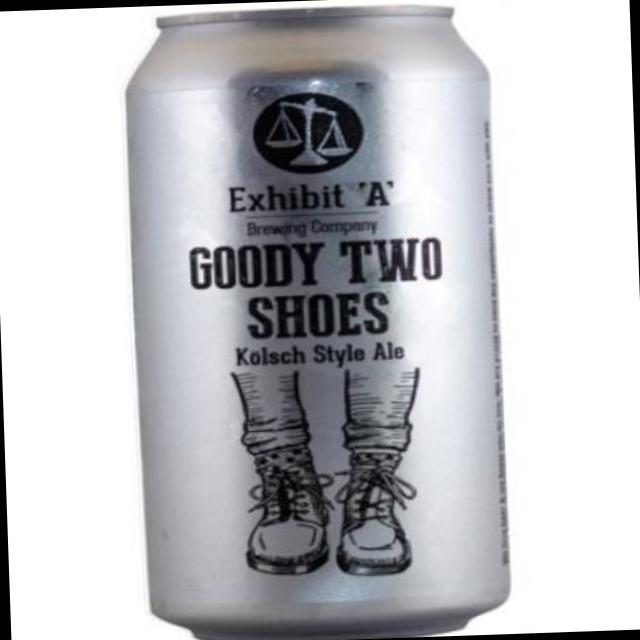metal: (125, 5, 506, 638)
